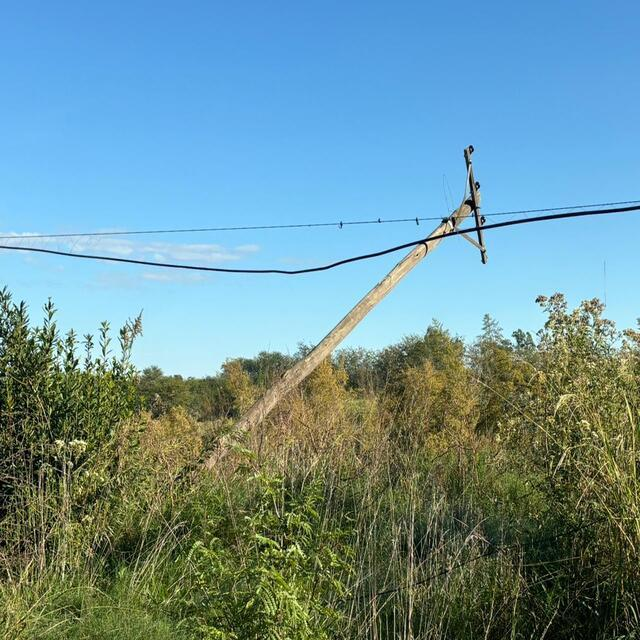Inclined Pole: (184, 142, 493, 476)
